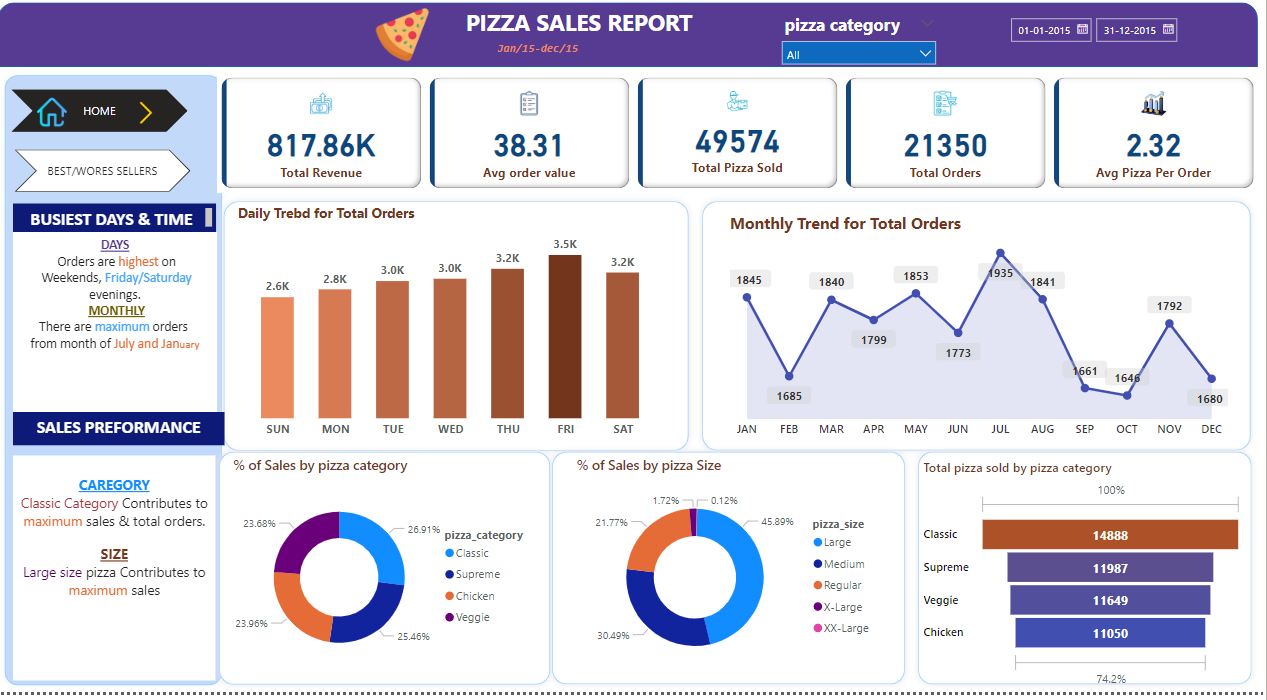

The dashboard page shown, as its layout file describes it:
{"tool":"powerbi","page":{"name":"HOME","canvas":[1500,820],"ordinal":0},"visuals":[{"type":"shape","box":[0,82.9,272.9,737.1],"z":0},{"type":"cardVisual","fields":{"Data":["pizza_sales.Total Revenue","pizza_sales.Avg order value","pizza_sales.Total Pizza Sold","pizza_sales.Total Orders","pizza_sales.Avg Pizza Per Order"]},"box":[258.3,88.3,1231.7,141.7],"z":1000},{"type":"shape","box":[0,5.5,1489.1,76.4],"z":2000},{"type":"textbox","box":[547.3,5.5,325.5,61.8],"z":3000},{"type":"textbox","box":[584.8,43.9,157.6,45.5],"z":4000},{"type":"image","box":[433.3,6.1,90.9,75.8],"z":5000},{"type":"shape","box":[258.2,232.7,565.5,310.9],"z":6000},{"type":"columnChart","title":"Daily Trebd for Total Orders","fields":{"Category":["pizza_sales.Order Day"],"Y":["pizza_sales.Total Orders"]},"box":[278.3,243.4,513.3,285.5],"z":7000},{"type":"shape","box":[825,232.1,664.3,310.7],"z":8000},{"type":"areaChart","title":"Monthly Trend for Total Orders","fields":{"Y":["pizza_sales.Total Orders"],"Category":["pizza_sales.Order Month"]},"box":[859.9,253.5,599.3,274.8],"z":9000},{"type":"shape","box":[253.6,528.6,407.1,291.1],"z":10000},{"type":"shape","box":[647.2,528.4,432.6,290.8],"z":11000},{"type":"shape","box":[1080,529,410,291],"z":12000},{"type":"donutChart","title":"% of Sales by pizza category","fields":{"Category":["pizza_sales.pizza_category"],"Y":["pizza_sales.Total Revenue"]},"box":[273,540.8,368.8,266],"z":13000},{"type":"donutChart","title":"% of Sales by pizza Size","fields":{"Y":["pizza_sales.Total Revenue"],"Category":["pizza_sales.pizza_size"]},"box":[679.1,540.8,368.8,266],"z":14000},{"type":"funnel","title":"Total pizza sold by pizza category","fields":{"Y":["pizza_sales.Total Pizza Sold"],"Category":["pizza_sales.pizza_category"]},"box":[1089,544,387,275],"z":15000},{"type":"textbox","box":[17.1,242.9,240,34.3],"z":16000},{"type":"textbox","box":[17.7,276.6,241.1,212.8],"z":18000},{"type":"textbox","box":[17.7,540.8,239.4,266],"z":18001},{"type":"textbox","box":[17.7,489.4,250,39],"z":18002},{"type":"slicer","fields":{"Values":["pizza_sales.pizza_category"]},"box":[916.7,12.4,202.1,69.1],"z":18003},{"type":"slicer","fields":{"Values":["pizza_sales.order_date"]},"box":[1184.4,14.2,227,69.1],"z":18004},{"type":"pageNavigator","box":[16.7,108.3,208.3,50],"z":18005},{"type":"pageNavigator","box":[18.8,179.2,208.3,50],"z":18006},{"type":"image","box":[153.8,116.2,41.5,36.9],"z":18007},{"type":"image","box":[40.8,109.2,45.4,50],"z":18008}]}

Visuals, with their boxes in screenshot pixels (x1, y1, x2, y2), scaled from the page's 1500x820 canvas onto the 1267x700 screenshot:
shape: l=0, t=71, r=231, b=699
cardVisual - pizza_sales.Total Revenue x pizza_sales.Avg order value: l=218, t=75, r=1259, b=196
shape: l=0, t=5, r=1258, b=70
textbox: l=462, t=5, r=737, b=57
textbox: l=494, t=37, r=627, b=76
image: l=366, t=5, r=443, b=70
shape: l=218, t=199, r=696, b=464
"Daily Trebd for Total Orders" columnChart: l=235, t=208, r=669, b=451
shape: l=697, t=198, r=1258, b=463
"Monthly Trend for Total Orders" areaChart: l=726, t=216, r=1233, b=451
shape: l=214, t=451, r=558, b=699
shape: l=547, t=451, r=912, b=699
shape: l=912, t=452, r=1259, b=699
"% of Sales by pizza category" donutChart: l=231, t=462, r=542, b=689
"% of Sales by pizza Size" donutChart: l=574, t=462, r=885, b=689
"Total pizza sold by pizza category" funnel: l=920, t=464, r=1247, b=699
textbox: l=14, t=207, r=217, b=237
textbox: l=15, t=236, r=219, b=418
textbox: l=15, t=462, r=217, b=689
textbox: l=15, t=418, r=226, b=451
slicer - pizza_sales.pizza_category: l=774, t=11, r=945, b=70
slicer - pizza_sales.order_date: l=1000, t=12, r=1192, b=71
pageNavigator: l=14, t=92, r=190, b=135
pageNavigator: l=16, t=153, r=192, b=196
image: l=130, t=99, r=165, b=131
image: l=34, t=93, r=73, b=136
